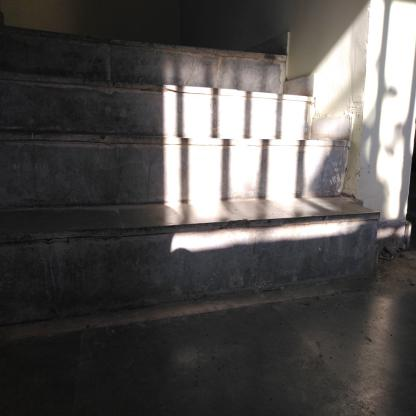stairs: (1, 39, 285, 326)
